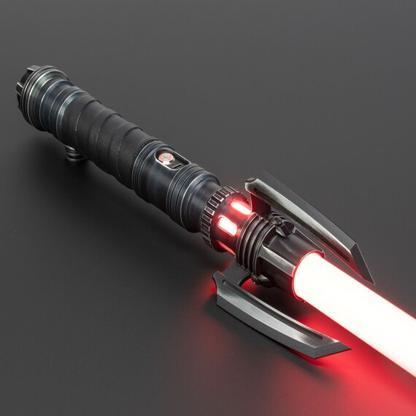sith_lightsaber: (2, 51, 415, 403)
